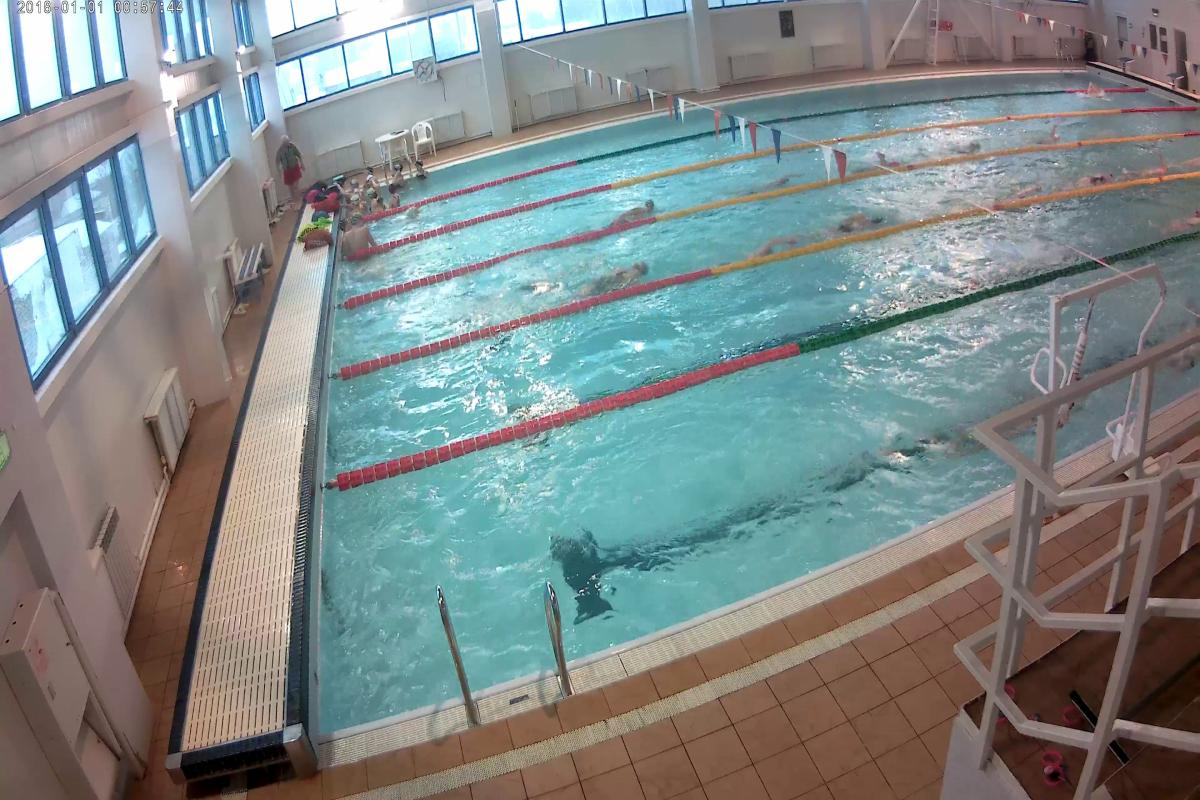swimmer: (583, 258, 657, 293), (742, 227, 801, 258), (618, 191, 655, 222), (832, 213, 883, 235), (1071, 163, 1117, 187)
